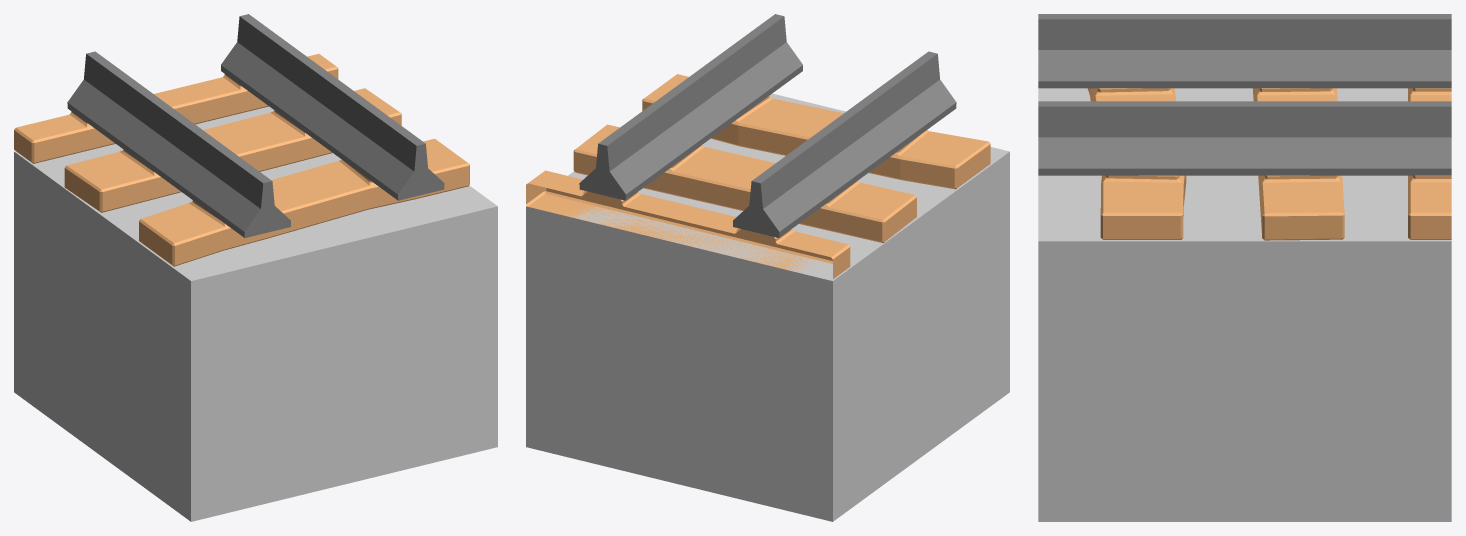
Rendered from Rail_Classique_002.fbx.
3 views of the same model, side by side, from view 1: azimuth 30°, elevation 25°; view 2: azimuth 150°, elevation 25°; view 3: azimuth 270°, elevation 25° (orthographic). The views are drawn at different scales.
Parts seen in each view (by area): view 1: Rail Classique.002; view 2: Rail Classique.002; view 3: Rail Classique.002.
Boxes of the visible parts, <box> form: Rail Classique.002: <box>14,14,497,521</box>; Rail Classique.002: <box>526,14,1009,521</box>; Rail Classique.002: <box>1038,14,1451,521</box>.
Size of the model in its own units: 100 by 100 by 100.
